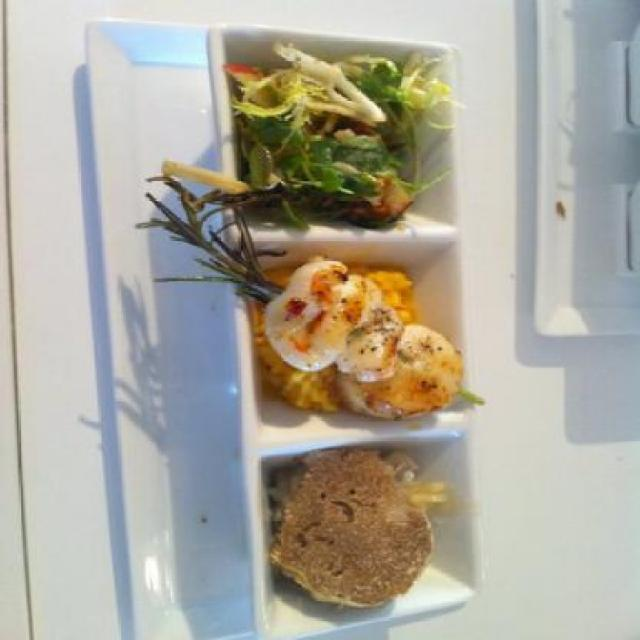Risotto: (253, 275, 464, 427)
